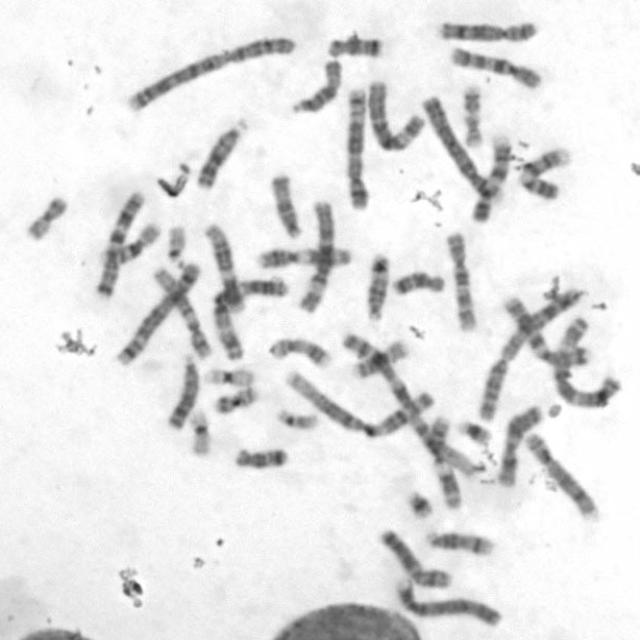A1: (341, 330, 479, 479), (284, 368, 438, 441)
A2: (475, 288, 585, 424), (124, 34, 296, 113)
A3: (548, 314, 622, 412), (212, 274, 290, 361)
B4: (419, 94, 507, 208), (393, 578, 504, 629)
B5: (115, 260, 202, 367), (345, 86, 371, 211)
C10: (448, 44, 543, 89), (442, 230, 479, 331)
C11: (427, 414, 465, 511), (255, 244, 352, 272)
C12: (149, 266, 216, 360), (202, 221, 248, 316)
C6: (295, 199, 337, 315), (367, 78, 426, 154)
C7: (500, 296, 592, 368), (95, 188, 145, 298)
C8: (524, 431, 602, 521), (440, 18, 539, 44)
C9: (468, 133, 514, 226), (517, 147, 574, 202)
D13: (193, 117, 250, 191), (165, 351, 201, 432)
D14: (423, 523, 495, 557), (363, 252, 392, 321)
D15: (290, 58, 344, 116), (270, 171, 304, 241)
E16: (98, 220, 162, 266), (351, 336, 411, 381)
E17: (266, 336, 332, 370), (460, 82, 486, 150)
E18: (391, 268, 445, 300), (326, 32, 385, 60), (232, 445, 292, 471)
F19: (202, 366, 256, 389), (188, 408, 210, 458)
F20: (25, 193, 69, 244), (213, 384, 260, 416)
G21: (404, 489, 436, 520), (457, 420, 493, 446)
G22: (276, 407, 322, 432), (165, 222, 188, 268)
X: (378, 526, 454, 590), (495, 405, 544, 488)
